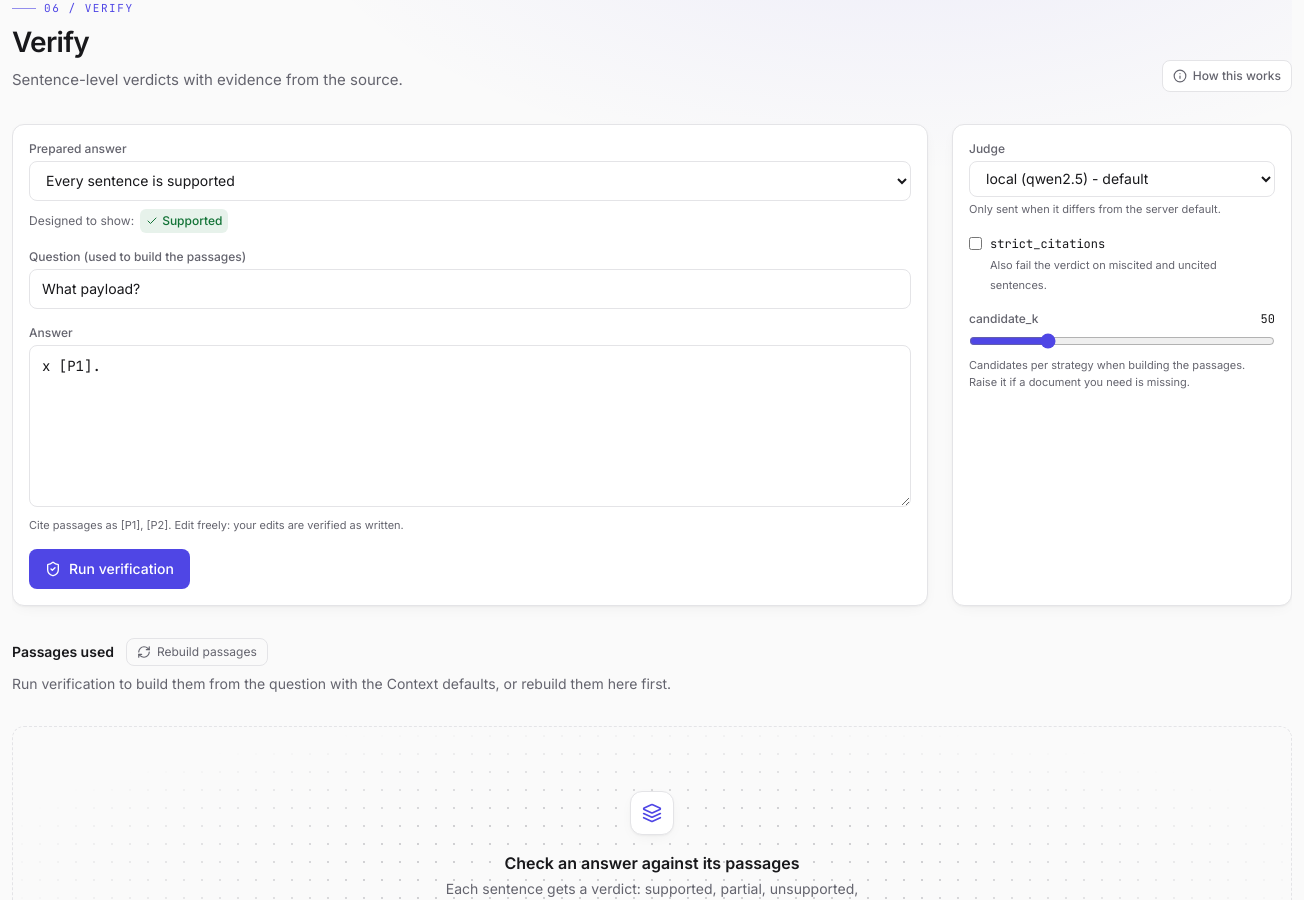
Scenario: VerifyPage › sends_judge_and_strict_only_when_changed
Select "Wrong number plus a wrong-robot claim" in the dropdown labelled "Prepared answer" at (470, 181), box x1=29 y1=161 x2=911 y2=201
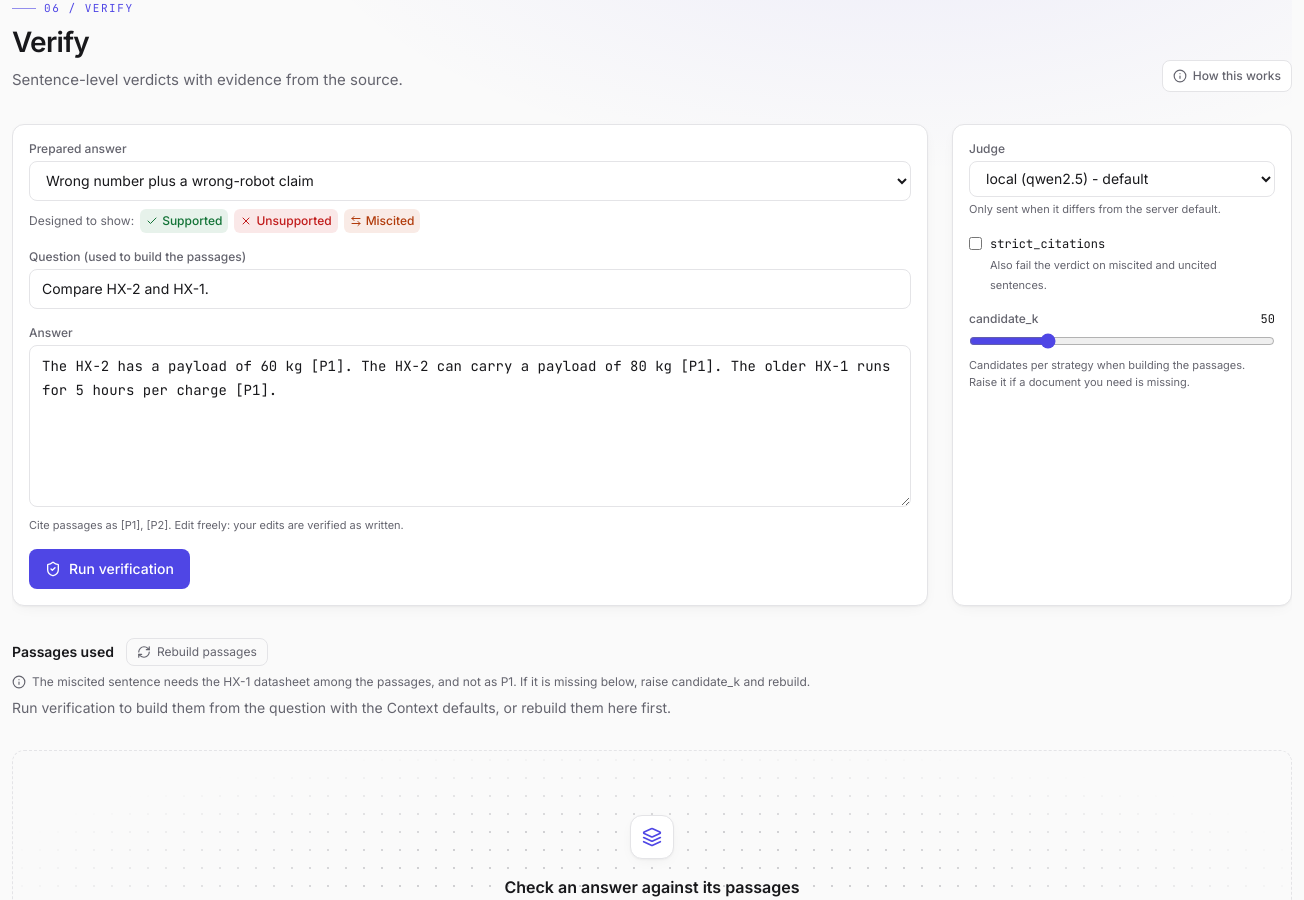
Select "claude (claude)" in the dropdown labelled "Judge" at (1122, 179), box x1=969 y1=161 x2=1275 y2=197
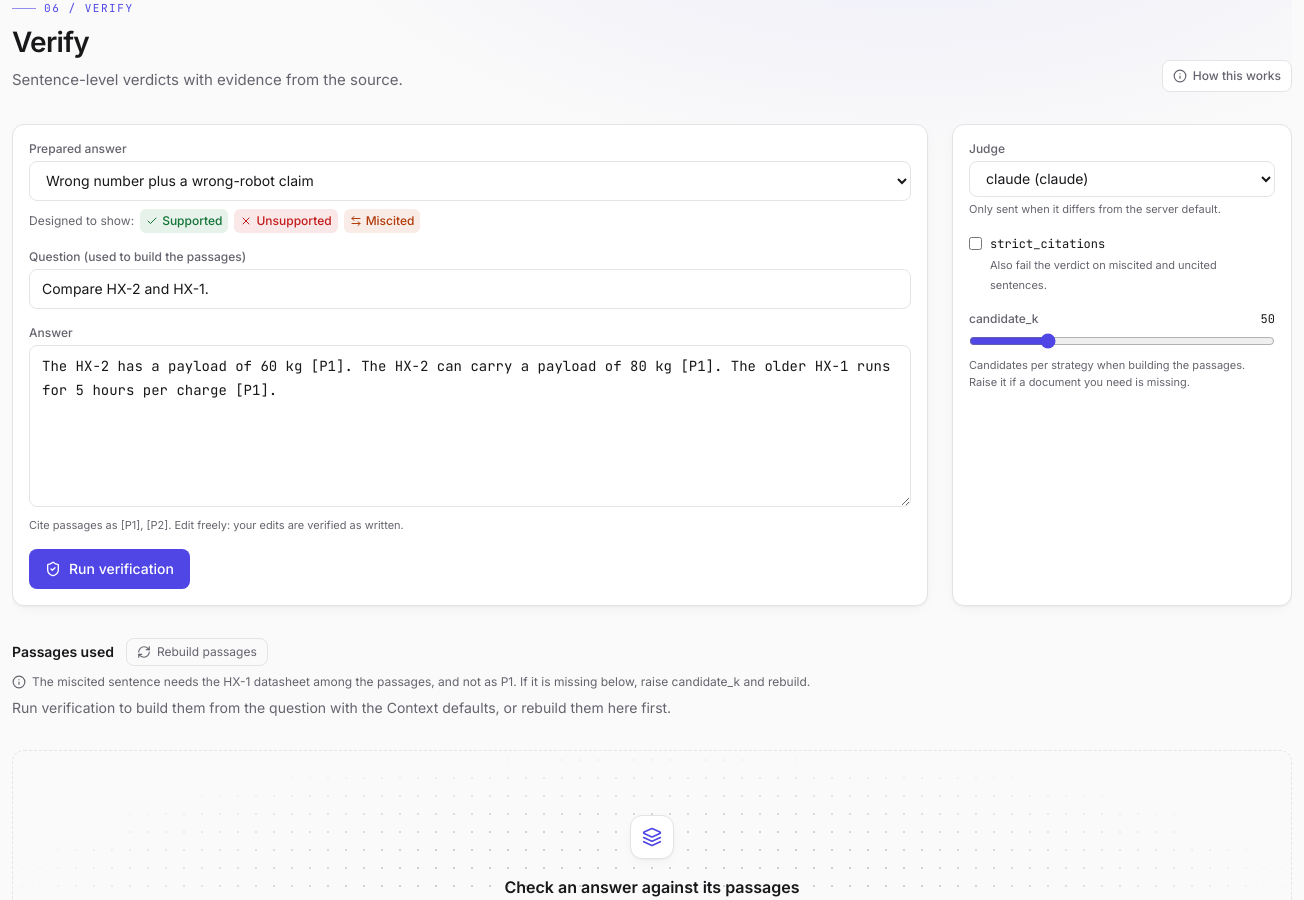
Click the checkbox labelled "strict_citations" at (976, 244), box x1=969 y1=237 x2=982 y2=250
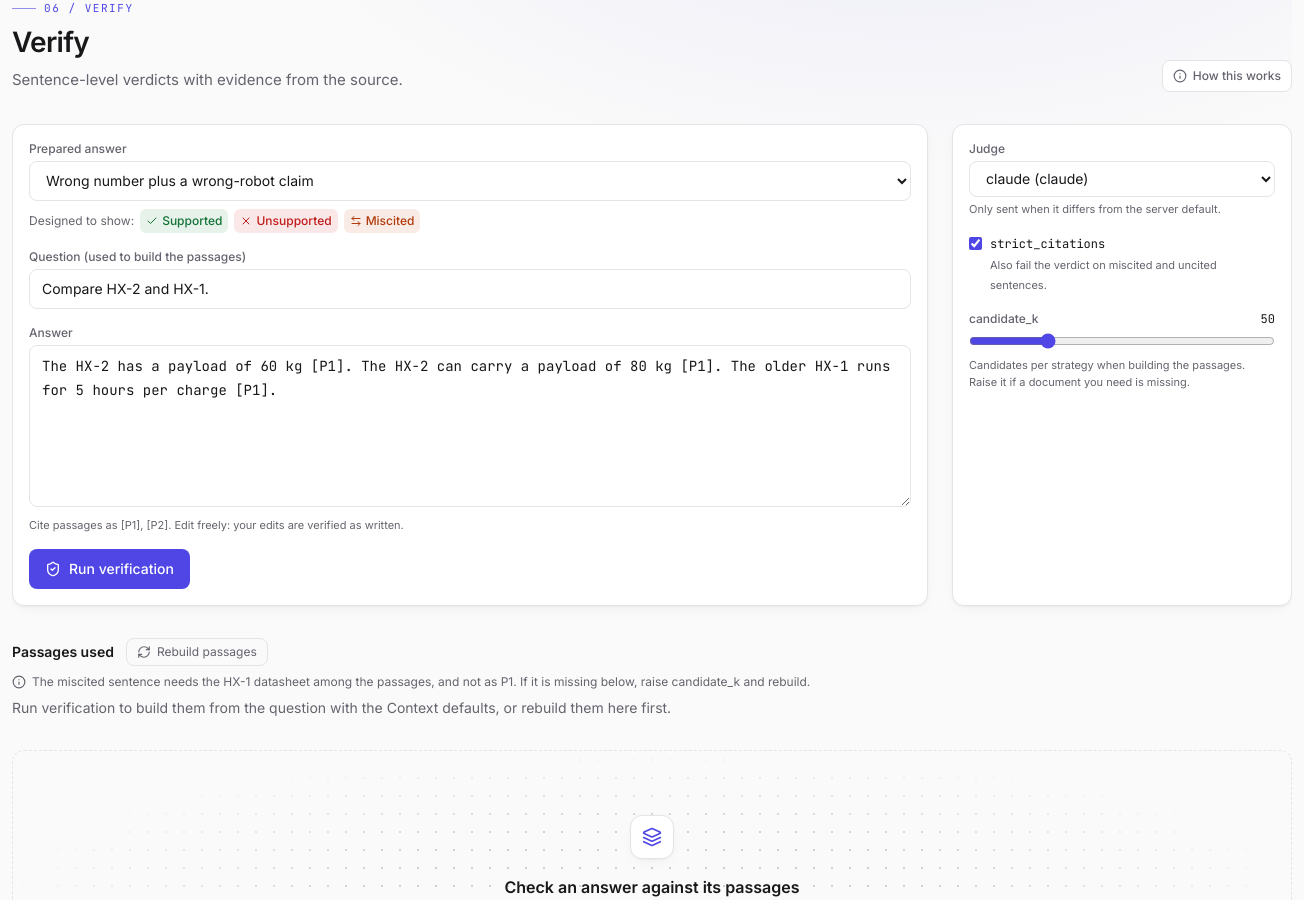
Click the button "Run verification" at (109, 569), box x1=29 y1=549 x2=190 y2=589
(page scrolled)
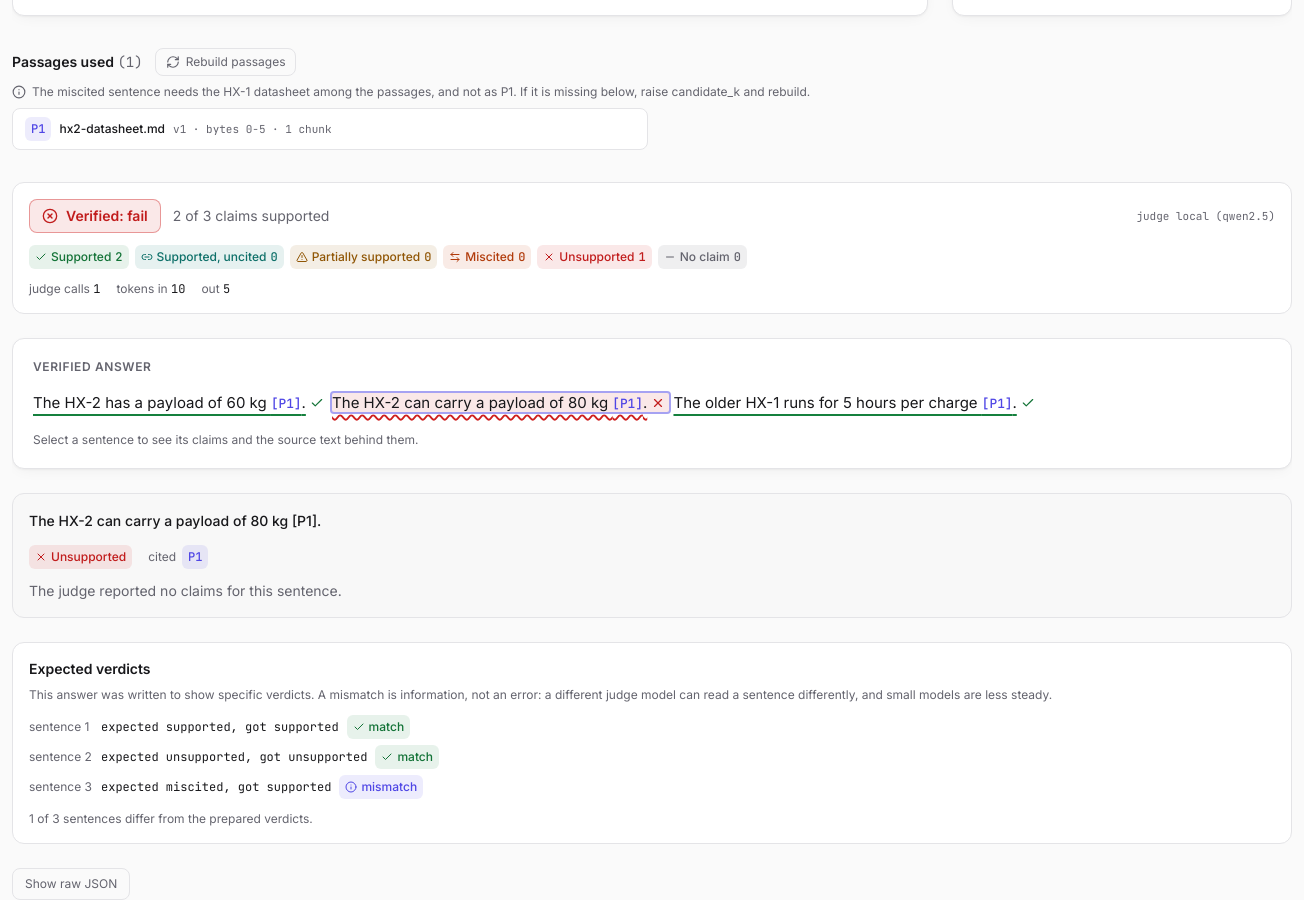
Now the element "Expected verdicts" is shown, box x1=12 y1=642 x2=1292 y2=844
